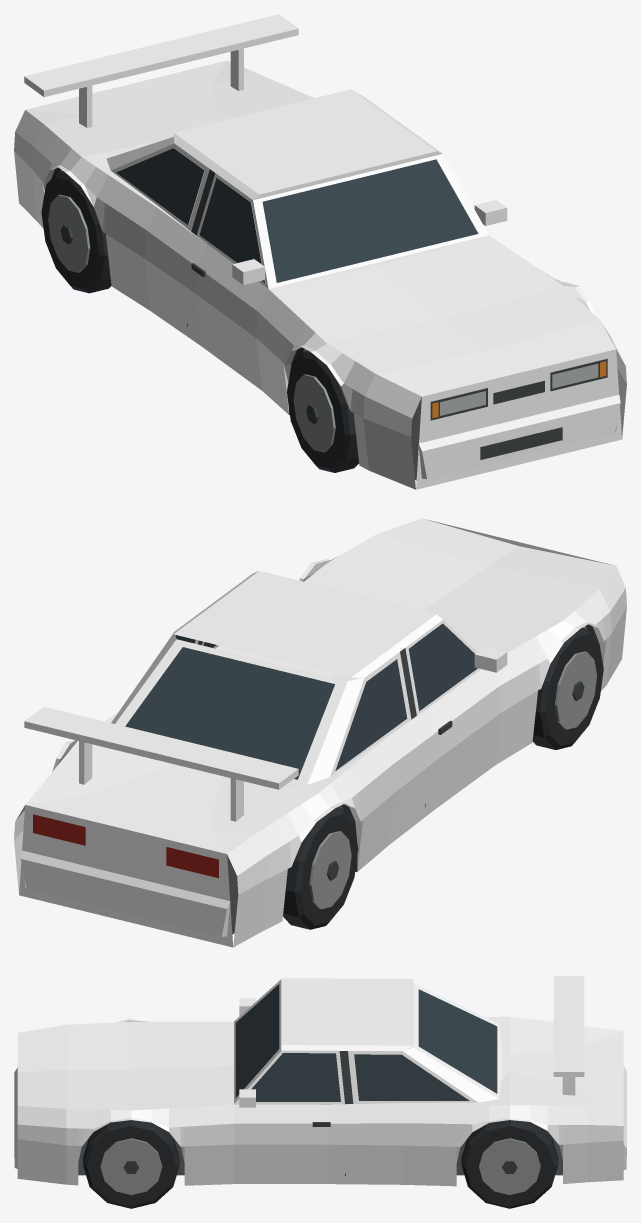
The model's file is kanaya_kawasemi_corrida.glb.
3 renders of one model, top to bottom at view 1: azimuth 30°, elevation 25°; view 2: azimuth 150°, elevation 25°; view 3: azimuth 270°, elevation 25°, orthographic. The views are drawn at different scales.
Visible parts, largest first — view 1: kanaya_kawasemi_corrida; view 2: kanaya_kawasemi_corrida; view 3: kanaya_kawasemi_corrida.
Boxes of the visible parts, x1,y1,x2,y2 form: kanaya_kawasemi_corrida: (14,14,626,489); kanaya_kawasemi_corrida: (14,518,626,947); kanaya_kawasemi_corrida: (14,976,626,1208).
Bounding box in the file's own units: 1.73 × 1.19 × 4.42.
Materials: 8 (1 with a texture image).
